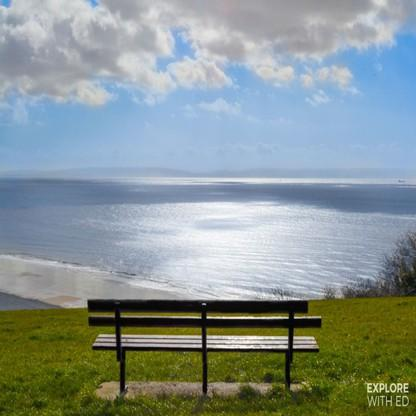obstacle: (68, 279, 327, 387)
